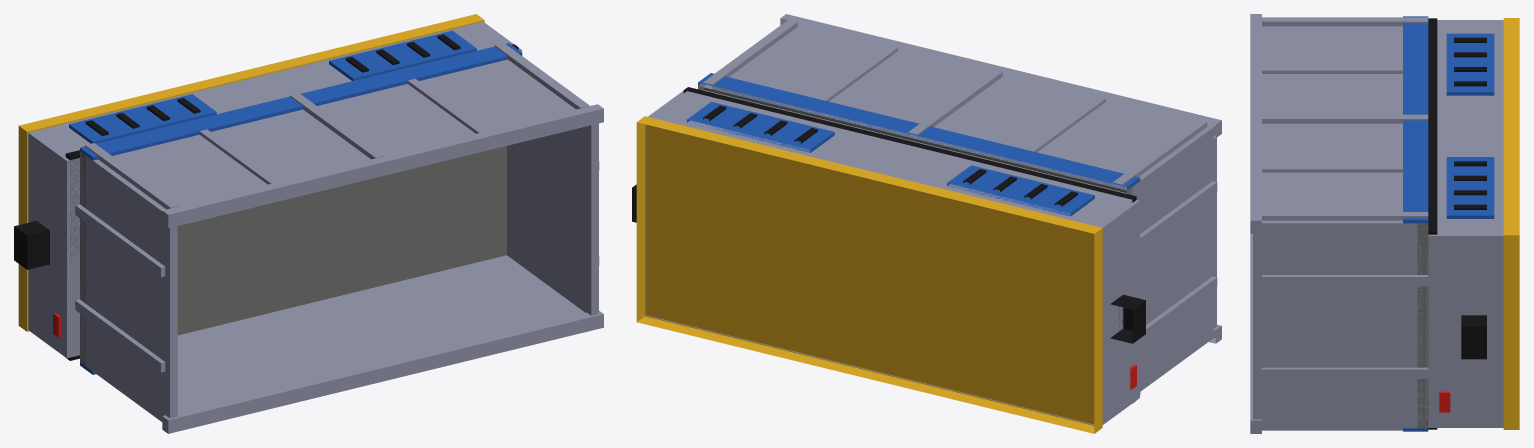
The model's file is empty.glb.
The picture shows the model from 3 angles, left to right: view 1: azimuth 30°, elevation 25°; view 2: azimuth 150°, elevation 25°; view 3: azimuth 270°, elevation 25°; orthographic projection. The views are drawn at different scales.
Visible parts, largest first — view 1: empty_body, empty_base, empty_side1_-3.30_2.00, empty_stripe, empty_pod11, empty_pod10, empty_coupler-1, empty_side1_-1.66_2.35, empty_side1_1.54_2.35; view 2: empty_stripe, empty_body, empty_base, empty_side1_-3.30_2.00, empty_pod10, empty_pod11, empty_base_lip, empty_coupler-1, empty_side1_1.54_2.35, empty_side1_-1.66_2.35; view 3: empty_body, empty_base, empty_stripe, empty_side1_-3.30_2.00, empty_pod10, empty_pod11, empty_base_lip, empty_coupler1, empty_side1_1.54_2.35, empty_side1_-1.66_2.35.
Boxes of the visible parts, x1,y1,x2,y2 form: empty_body: (75, 43, 603, 433); empty_base: (28, 21, 521, 358); empty_side1_-3.30_2.00: (80, 43, 522, 160); empty_stripe: (18, 14, 484, 331); empty_pod11: (329, 30, 476, 80); empty_pod10: (69, 94, 216, 143); empty_coupler-1: (14, 221, 49, 269); empty_side1_-1.66_2.35: (199, 129, 278, 184); empty_side1_1.54_2.35: (407, 78, 486, 133); empty_stripe: (636, 116, 1102, 433); empty_body: (698, 14, 1221, 391); empty_base: (645, 90, 1139, 424); empty_side1_-3.30_2.00: (698, 73, 1140, 190); empty_pod10: (947, 165, 1094, 216); empty_pod11: (687, 101, 834, 152); empty_base_lip: (683, 87, 1136, 402); empty_coupler-1: (1110, 294, 1145, 343); empty_side1_1.54_2.35: (818, 46, 897, 101); empty_side1_-1.66_2.35: (1026, 96, 1105, 152); empty_body: (1250, 14, 1428, 433); empty_base: (1428, 20, 1503, 427); empty_stripe: (1503, 18, 1519, 429); empty_side1_-3.30_2.00: (1403, 16, 1428, 223); empty_pod10: (1446, 33, 1494, 95); empty_pod11: (1446, 157, 1494, 218); empty_base_lip: (1428, 18, 1437, 429); empty_coupler1: (1461, 315, 1486, 359); empty_side1_1.54_2.35: (1262, 165, 1402, 172); empty_side1_-1.66_2.35: (1262, 66, 1402, 73).
Bounding box in the file's own units: 7.7 × 3.24 × 3.69.
